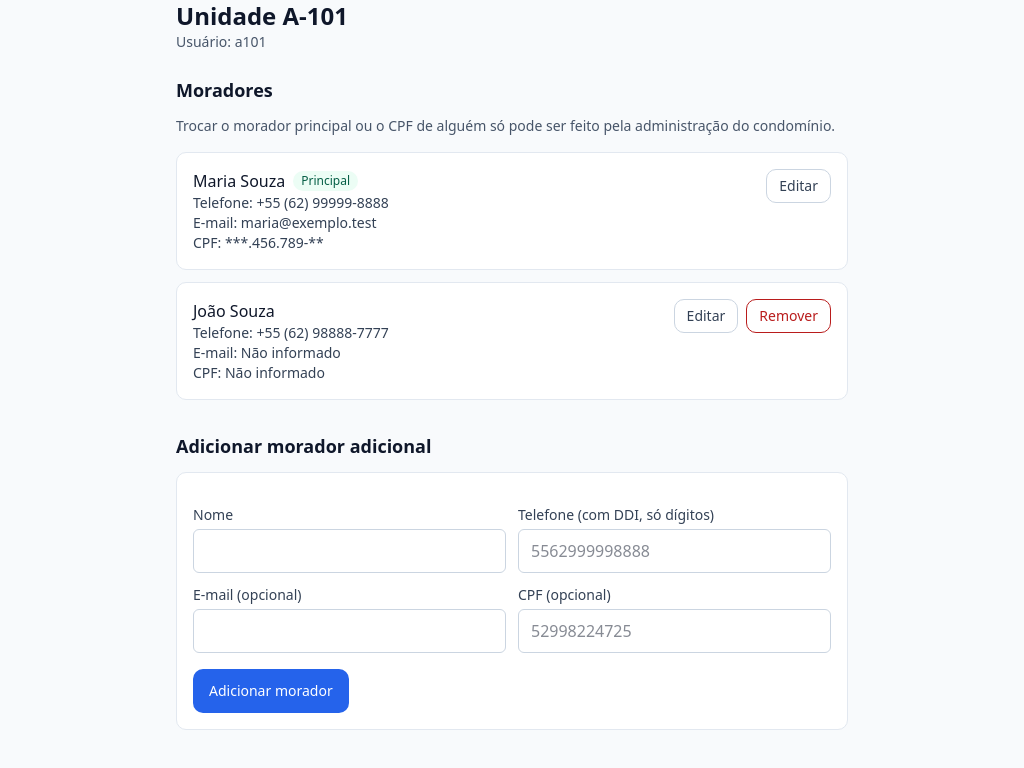
MyUnitPage › mostra o erro do backend quando a remoção falha com CANNOT_REMOVE_PRIMARY
The width and height of the screenshot is (1024, 768).
Step 1. Click the button "Remover" → (789, 316), box [746,299,831,333]
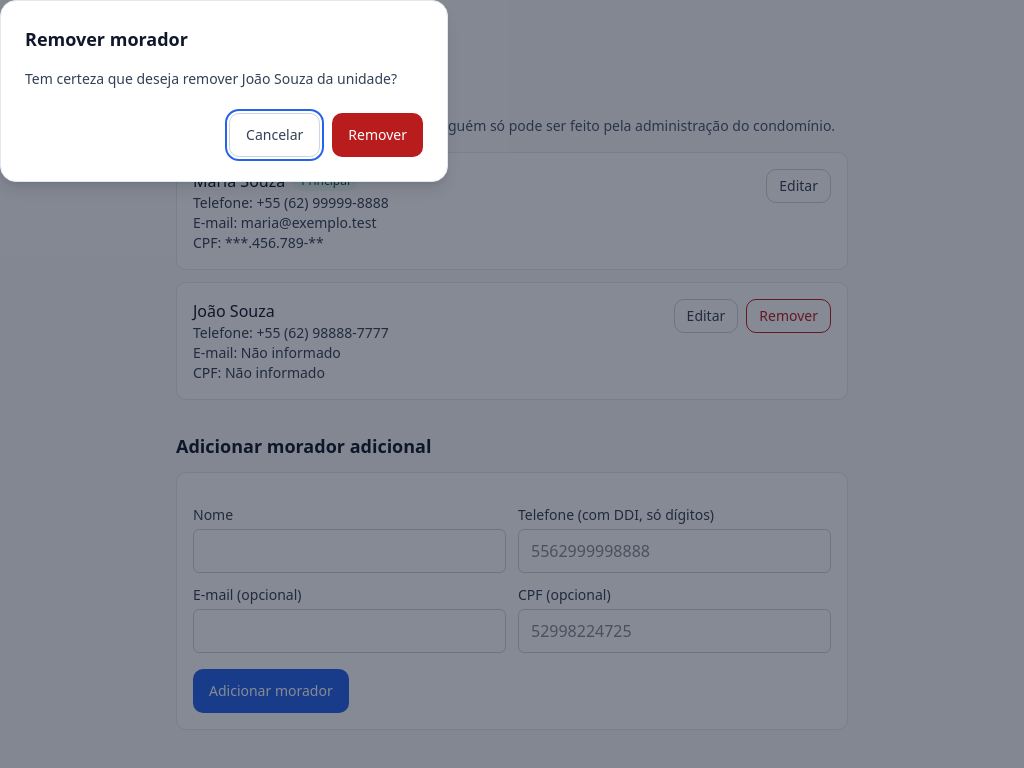
Step 2. Click the button "Remover" → (378, 135), box [332,113,423,157]
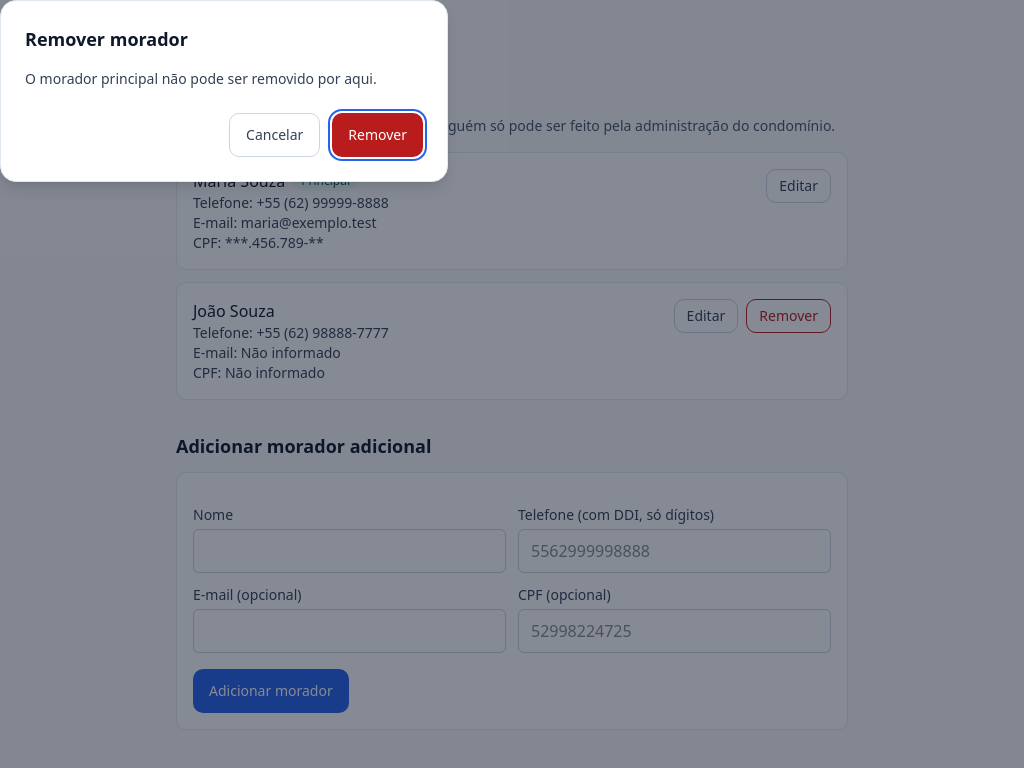
Expected: the text "O morador principal não pode ser removido por aqui." is shown, [25,69,423,89]
